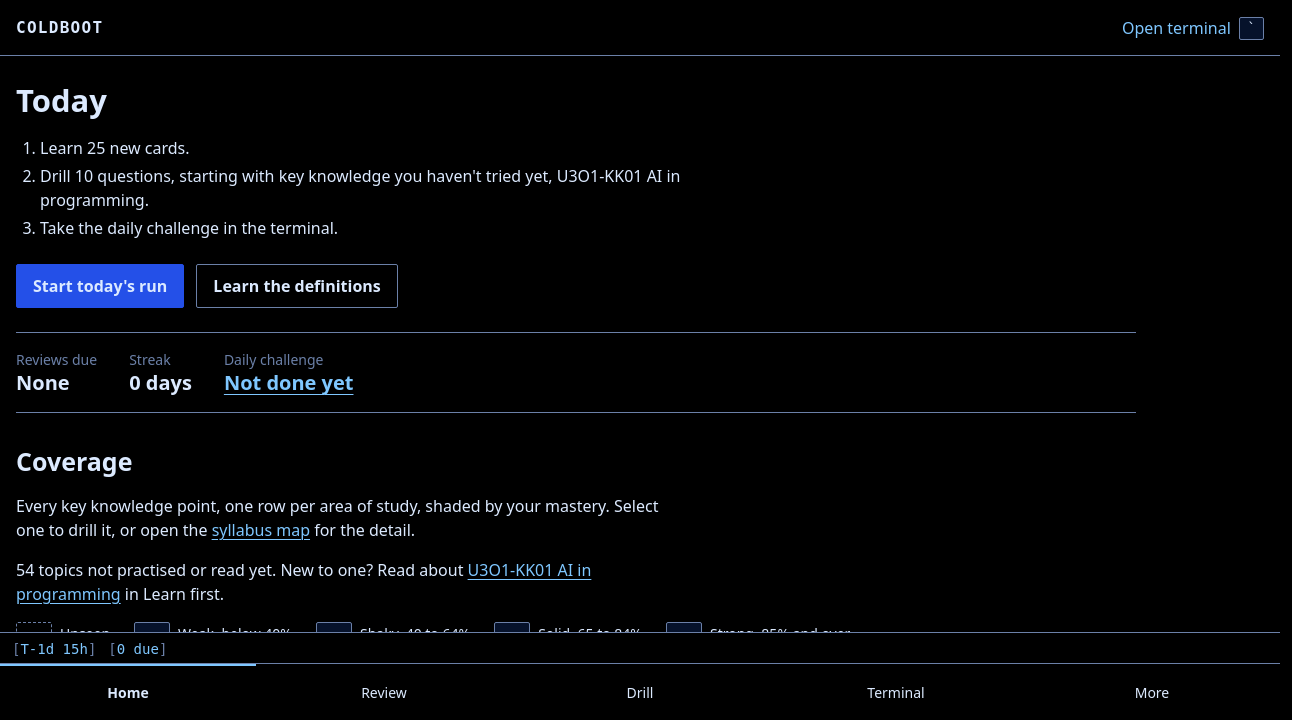
Test case: Layout › uses five tabs and a More menu below 720 px
Step 1. Click the button "More" → (1152, 692), box [1024,664,1280,719]
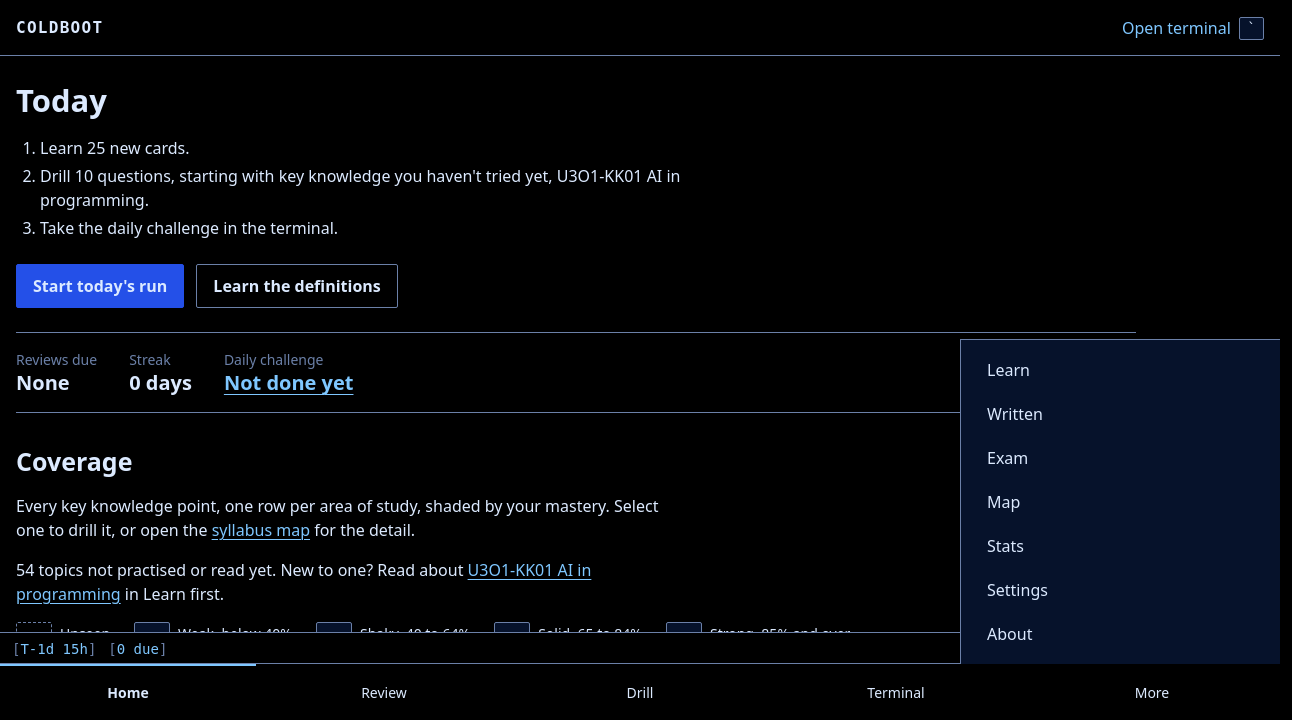
Expected: the link "Learn" is shown, [987,359,1030,381]
Expected: the link "Written" is shown, [987,403,1043,425]
Expected: the link "Exam" is shown, [987,447,1028,469]
Step 2. Press Escape
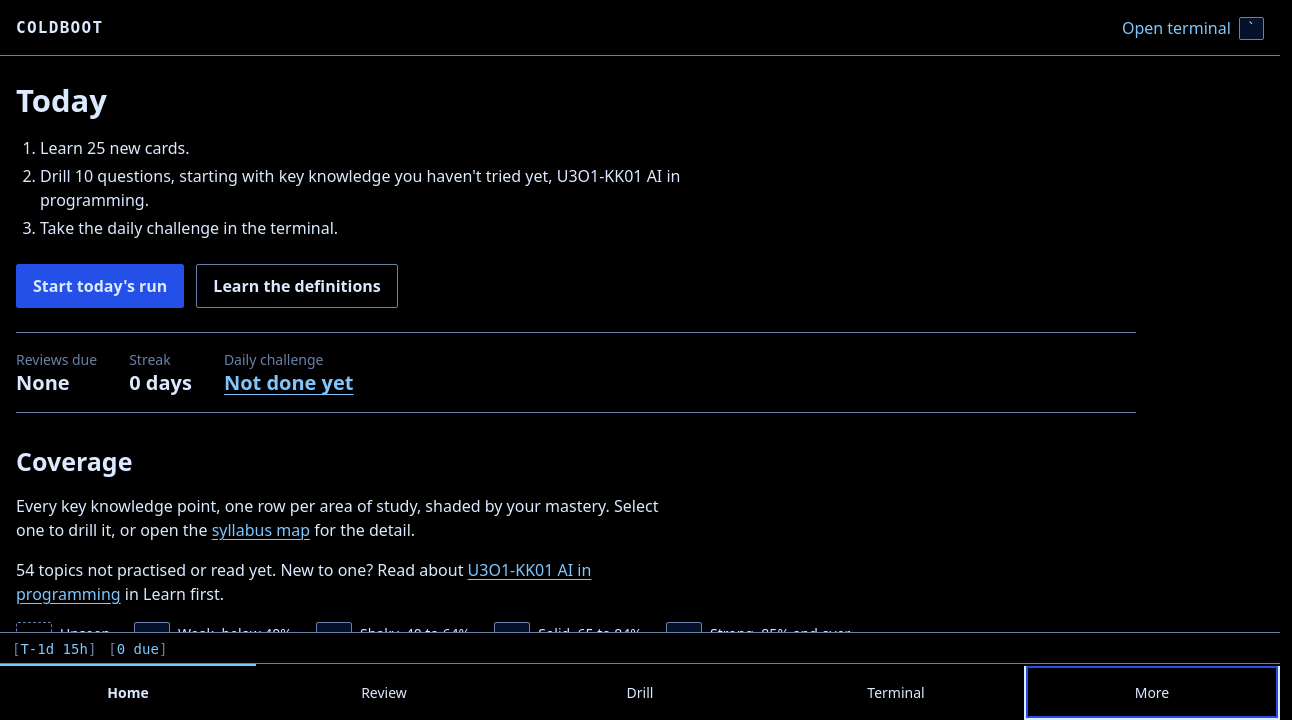
Expected: the button "Open terminal `" is shown, [1104,6,1280,50]
Expected: the button "More" is collapsed, [1024,664,1280,719]
